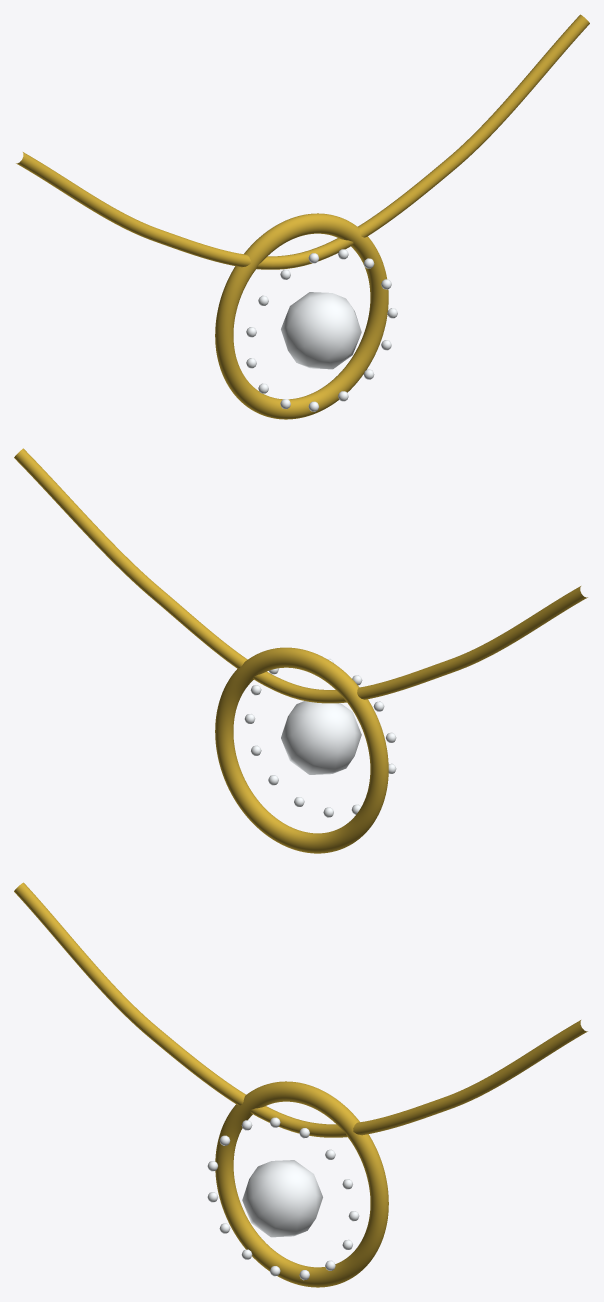
File: maharani-bridal-choker.glb
3 views of the same model, one above another, from view 1: azimuth 30°, elevation 25°; view 2: azimuth 150°, elevation 25°; view 3: azimuth 330°, elevation 25° (orthographic).
Parts seen in each view (by area): view 1: pendant_frame, chain, pendant_gem; view 2: pendant_frame, chain, pendant_gem; view 3: pendant_frame, chain, pendant_gem.
Boxes of the visible parts, left/top/right/bottom form: pendant_frame: left=215, top=213, right=388, bottom=419; chain: left=16, top=14, right=589, bottom=269; pendant_gem: left=281, top=292, right=361, bottom=369; pendant_frame: left=215, top=647, right=388, bottom=853; chain: left=14, top=448, right=587, bottom=703; pendant_gem: left=281, top=701, right=361, bottom=774; pendant_frame: left=215, top=1081, right=388, bottom=1287; chain: left=14, top=882, right=587, bottom=1137; pendant_gem: left=242, top=1160, right=322, bottom=1237.
Size of the model in its own units: 2.73 by 1.52 by 0.366.
